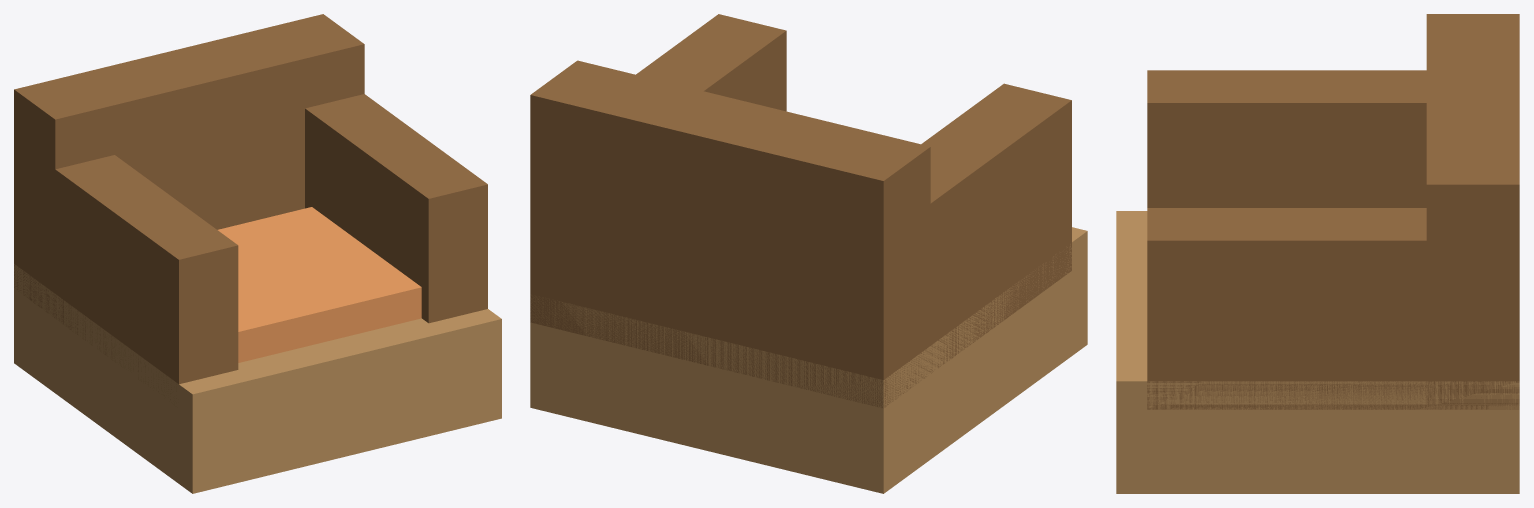
File: lounge_chair.glb
3 renders of one model, left to right at view 1: azimuth 30°, elevation 25°; view 2: azimuth 150°, elevation 25°; view 3: azimuth 270°, elevation 25°, orthographic. The views are drawn at different scales.
Parts seen in each view (by area): view 1: lounge_chair; view 2: lounge_chair; view 3: lounge_chair.
Boxes of the visible parts, bbox=[...] form: lounge_chair: bbox=[14, 14, 501, 493]; lounge_chair: bbox=[530, 14, 1087, 493]; lounge_chair: bbox=[1116, 14, 1519, 493].
Bounding box in the file's own units: 26 × 22 × 26.
